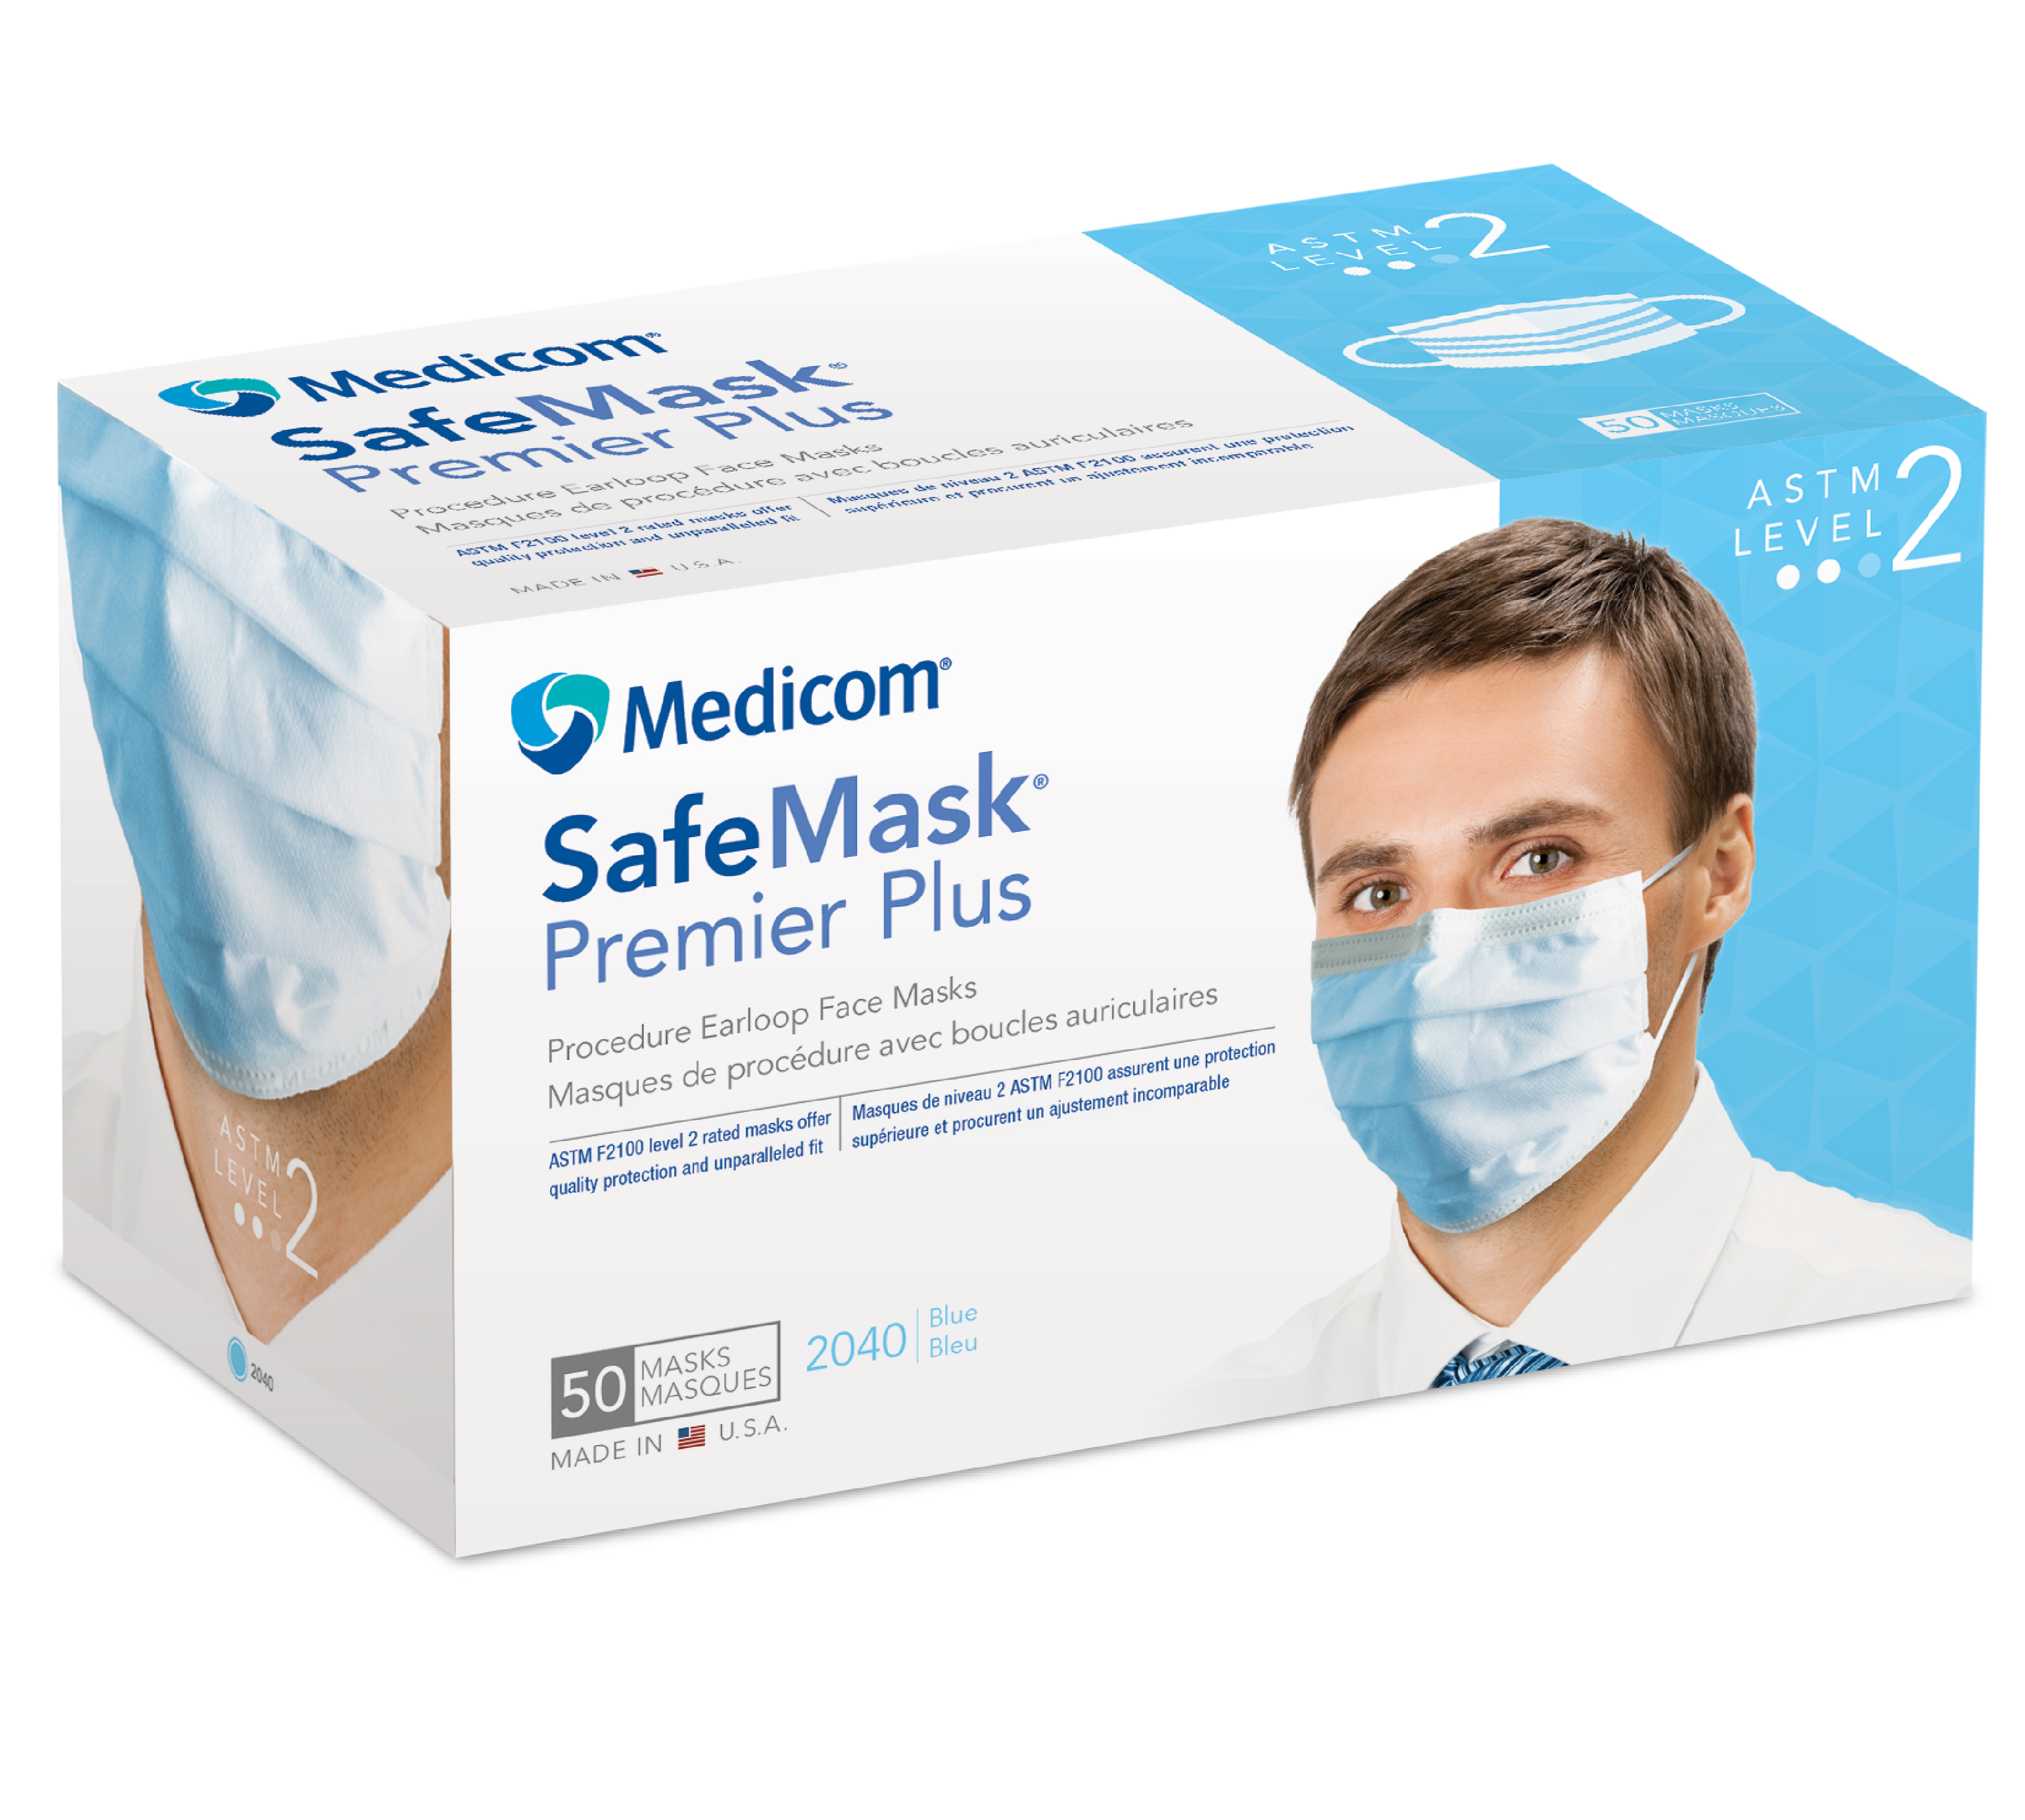Mask: (1286, 655, 1740, 1251)
